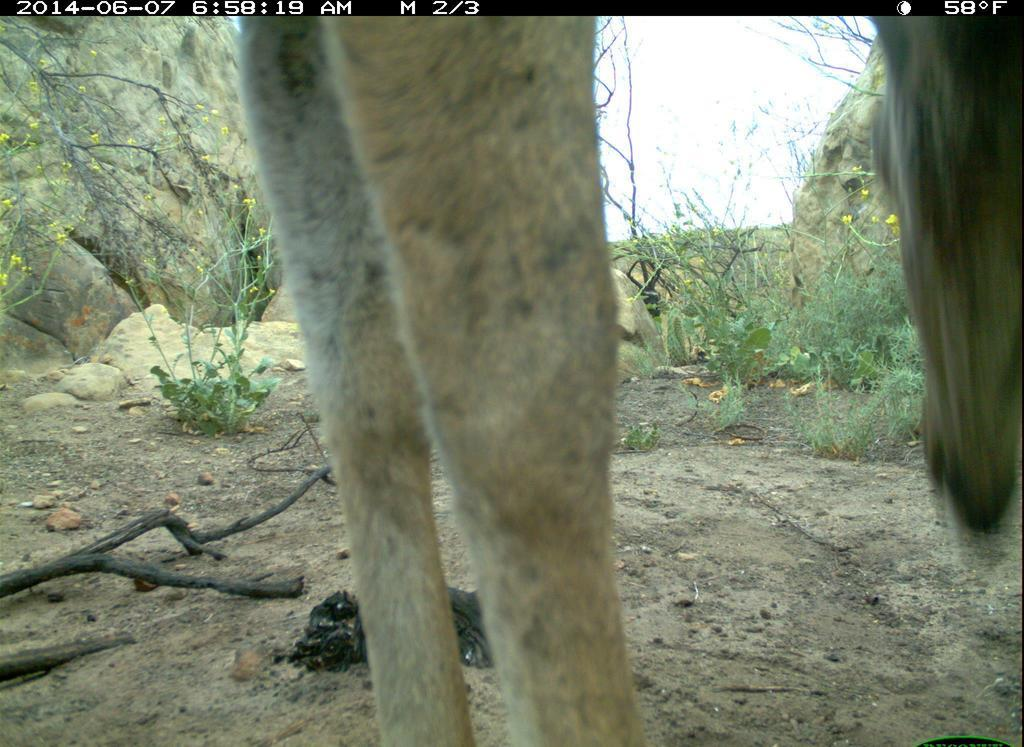deer: (205, 12, 1018, 740)
